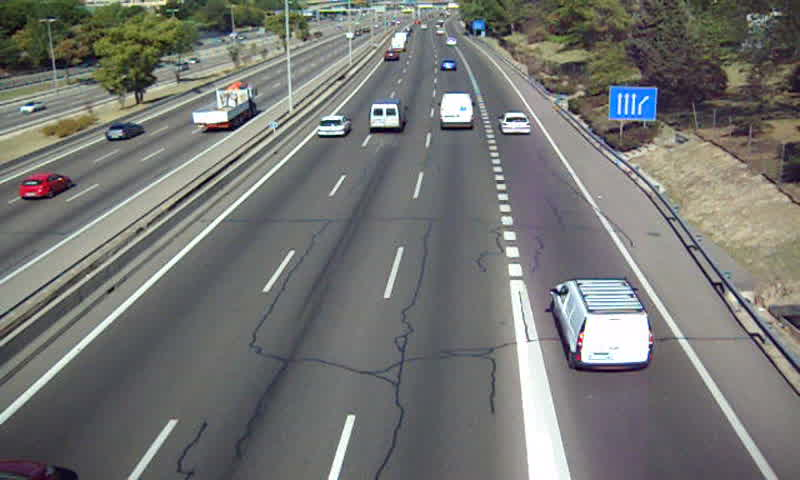car: (316, 115, 351, 140), (498, 112, 531, 135), (440, 58, 458, 73)
van: (550, 279, 654, 370), (370, 98, 408, 133), (440, 93, 474, 128)
